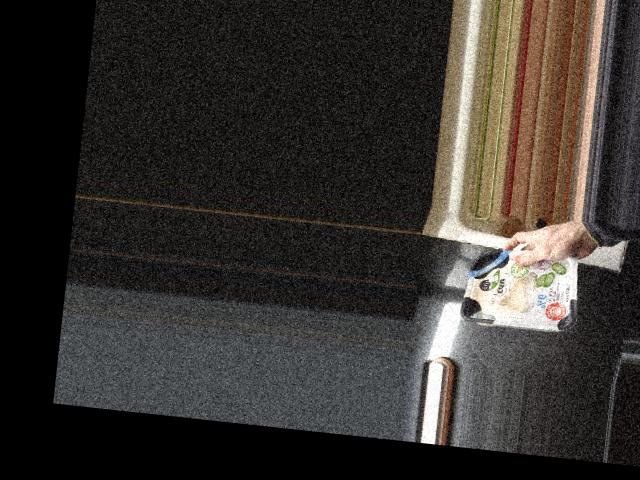cheese: (462, 236, 583, 333)
